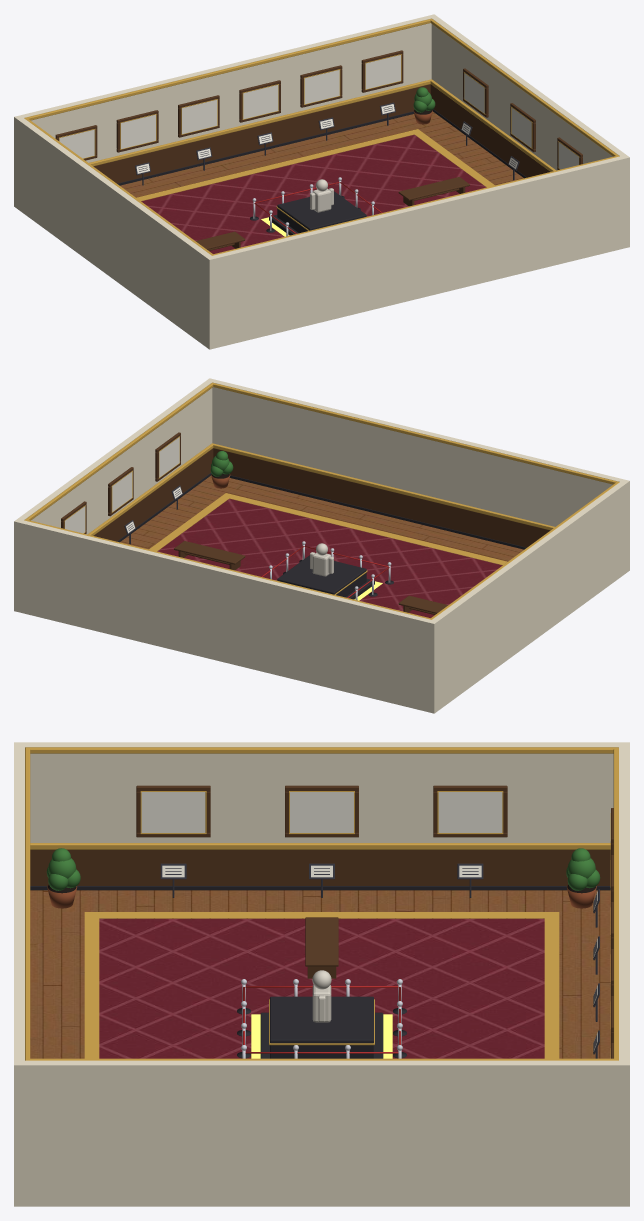
Rendered from museum.glb.
The picture shows the model from 3 angles, top to bottom: view 1: azimuth 30°, elevation 25°; view 2: azimuth 150°, elevation 25°; view 3: azimuth 270°, elevation 25°; orthographic projection. The views are drawn at different scales.
Parts seen in each view (by area): view 1: wall_1, wall_2, wall_0, carpet, wall_3, floor, panel_0, panel_3, crown_0, pedestal, chair_rail_0, carpet_border_0 (+16 smaller); view 2: wall_0, wall_1, wall_2, carpet, wall_3, floor, panel_1, panel_3, crown_1, pedestal, chair_rail_1, carpet_border_1 (+10 smaller); view 3: wall_3, carpet, wall_2, floor, panel_2, pedestal, wall_0, wall_1, crown_2, chair_rail_2, carpet_border_2, picture_6 (+11 smaller).
Part boxes in pixels (left/top/right/bottom): wall_1: left=206, top=155, right=629, bottom=349; wall_2: left=17, top=118, right=211, bottom=346; wall_0: left=14, top=14, right=437, bottom=208; carpet: left=141, top=135, right=486, bottom=253; wall_3: left=431, top=17, right=625, bottom=170; floor: left=120, top=111, right=523, bottom=201; panel_0: left=93, top=84, right=430, bottom=183; panel_3: left=430, top=84, right=549, bottom=177; crown_0: left=25, top=18, right=432, bottom=120; pedestal: left=277, top=191, right=366, bottom=233; chair_rail_0: left=89, top=79, right=432, bottom=166; carpet_border_0: left=136, top=129, right=422, bottom=200; wall_0: left=14, top=519, right=437, bottom=713; wall_1: left=206, top=378, right=629, bottom=572; wall_2: left=432, top=482, right=626, bottom=710; carpet: left=157, top=499, right=502, bottom=617; wall_3: left=18, top=381, right=212, bottom=534; floor: left=120, top=475, right=523, bottom=565; panel_1: left=213, top=448, right=550, bottom=547; panel_3: left=94, top=448, right=213, bottom=541; crown_1: left=211, top=383, right=618, bottom=484; pedestal: left=277, top=555, right=366, bottom=597; chair_rail_1: left=211, top=443, right=554, bottom=530; carpet_border_1: left=221, top=493, right=507, bottom=564; wall_3: left=25, top=1060, right=618, bottom=1206; carpet: left=99, top=919, right=544, bottom=1058; wall_2: left=25, top=742, right=618, bottom=842; floor: left=30, top=890, right=610, bottom=1058; panel_2: left=30, top=850, right=610, bottom=885; pedestal: left=270, top=996, right=373, bottom=1058; wall_0: left=619, top=742, right=629, bottom=1206; wall_1: left=14, top=742, right=24, bottom=1206; crown_2: left=25, top=747, right=618, bottom=753; chair_rail_2: left=30, top=843, right=610, bottom=849; carpet_border_2: left=99, top=912, right=544, bottom=918; picture_6: left=438, top=792, right=502, bottom=832.
Bounding box in the file's own units: 20.6 × 4.2 × 16.6.
Materials: 15 (2 with a texture image).
